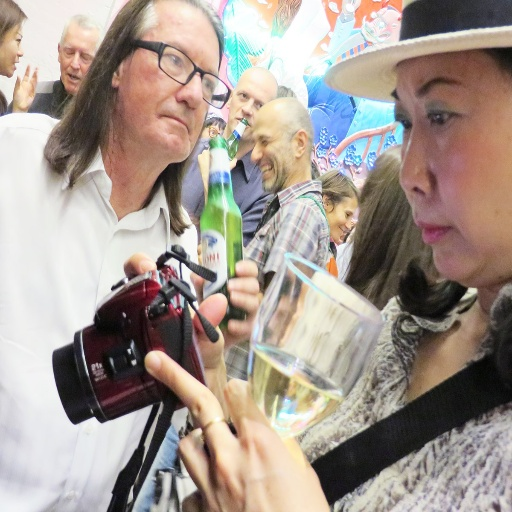hand: (151, 355, 306, 503), (119, 254, 226, 384), (185, 258, 261, 346), (11, 62, 38, 109)
